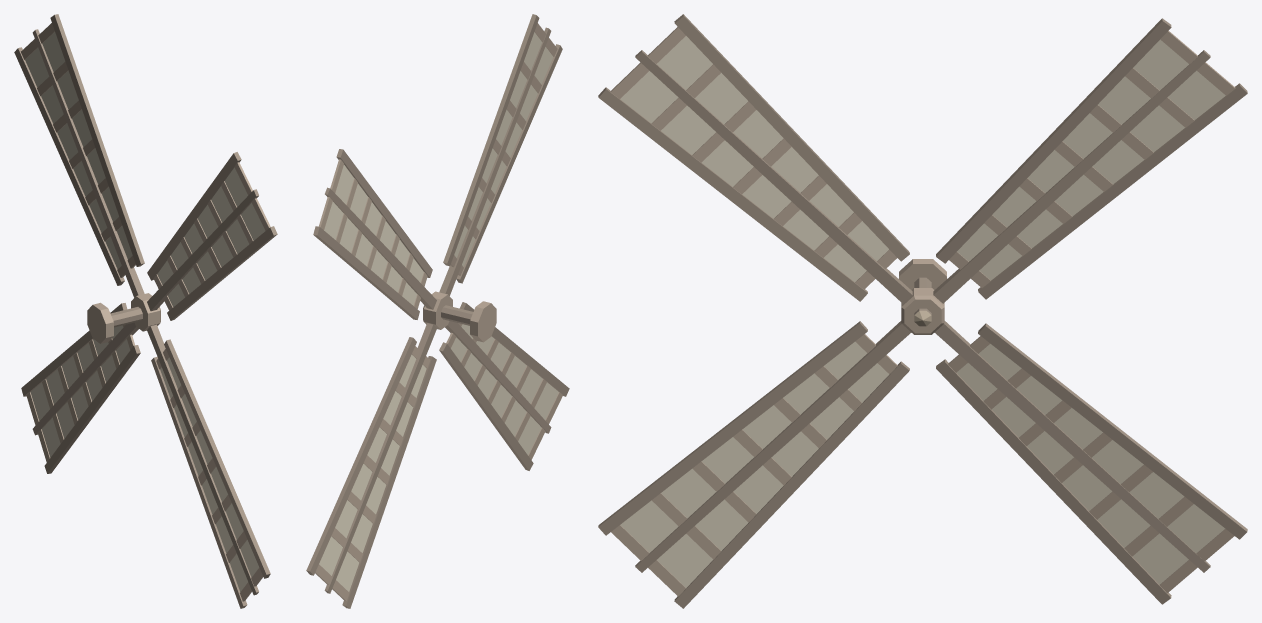
File: windmill-col.gltf
3 views of the same model, side by side, from view 1: azimuth 30°, elevation 25°; view 2: azimuth 150°, elevation 25°; view 3: azimuth 270°, elevation 25° (orthographic). The views are drawn at different scales.
Parts seen in each view (by area): view 1: windmill-col; view 2: windmill-col; view 3: windmill-col.
Boxes of the visible parts, x1,y1,x2,y2 form: windmill-col: (14,14,277,608); windmill-col: (306,14,569,608); windmill-col: (598,14,1247,608).
Bounding box in the file's own units: 1.02 × 7 × 7.
